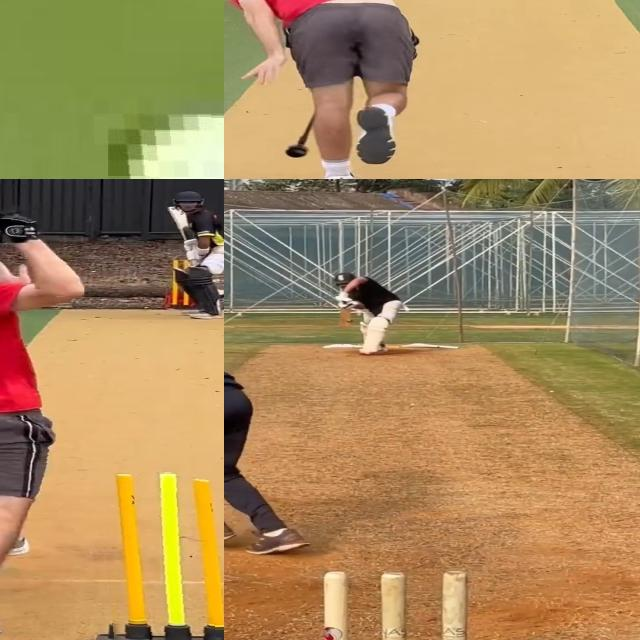Cricket ball: (109, 111, 224, 179), (347, 318, 352, 323)
Stumps: (96, 472, 224, 640), (323, 568, 470, 640)
